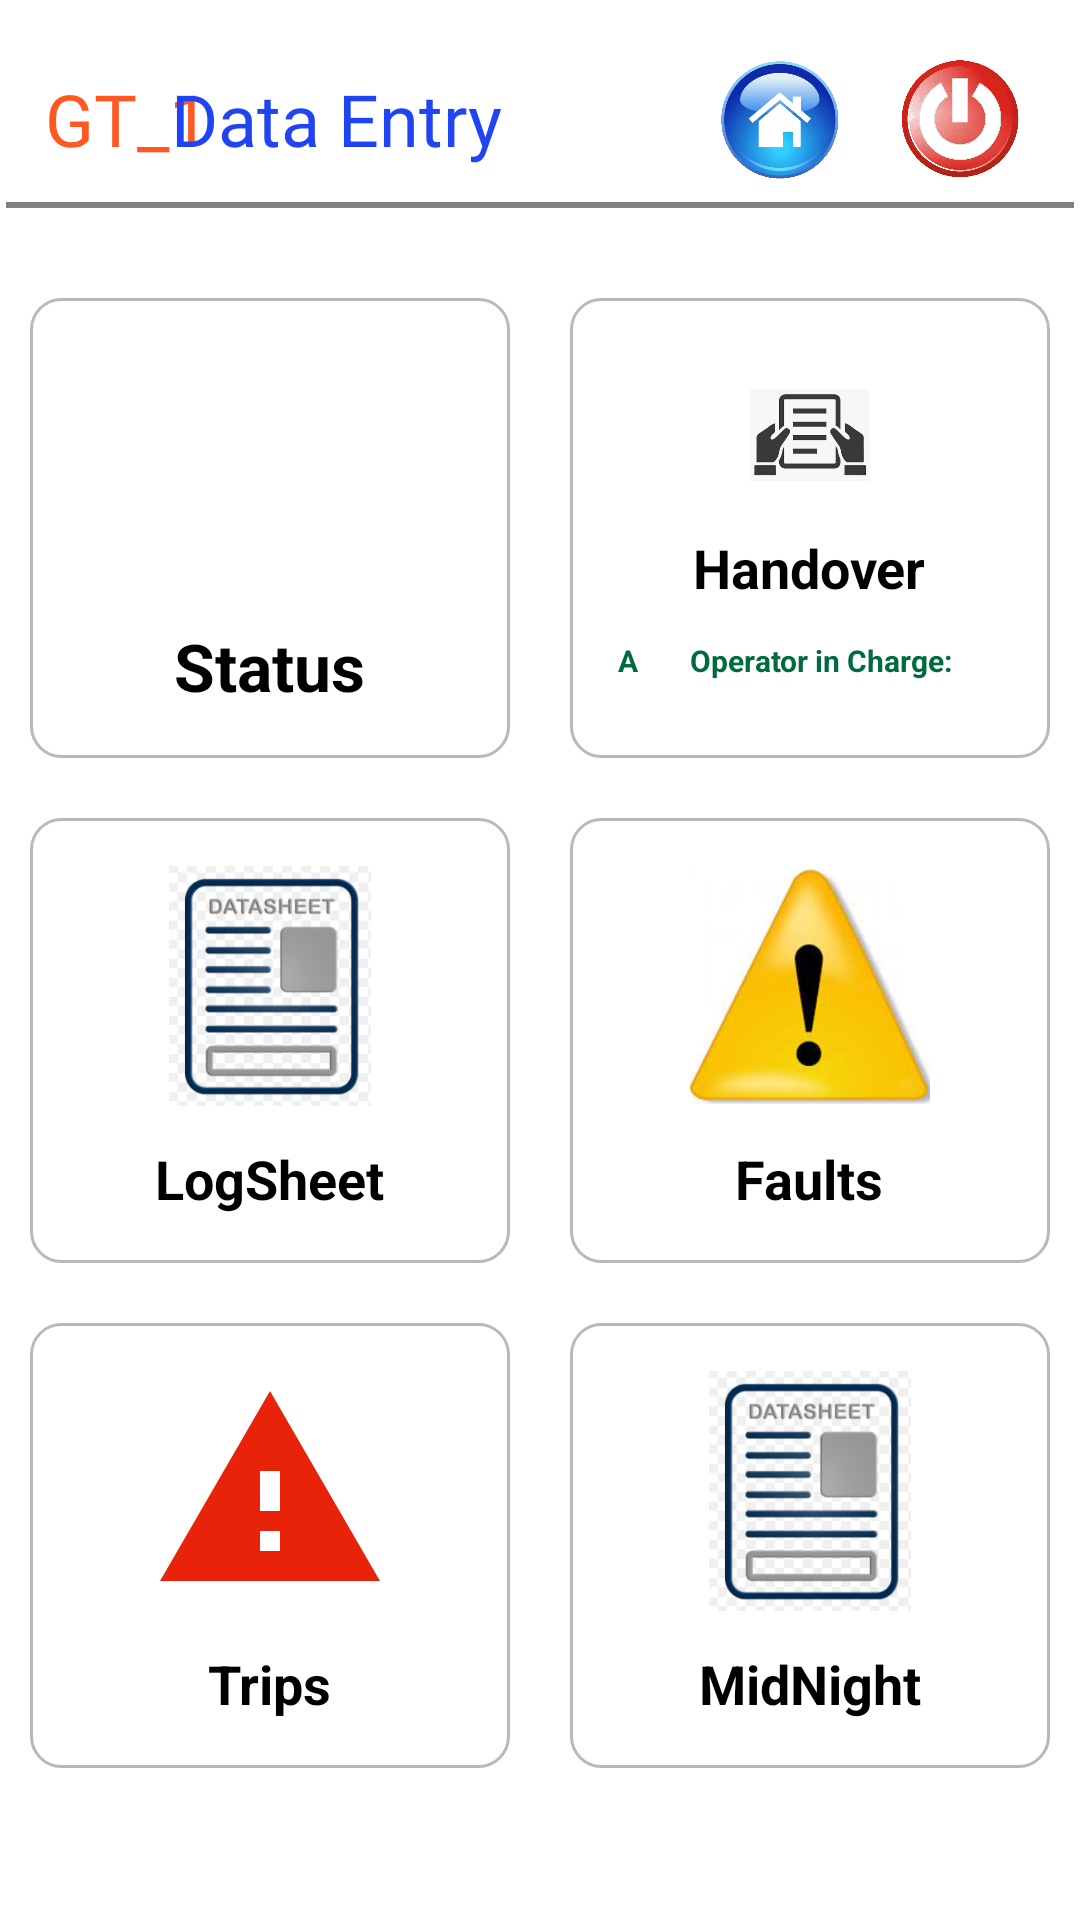

Icons on this 1080w x 1920h Android screen, each with the point to tap as point (x, y):
home: point (780, 120)
sign out: point (960, 118)
warning: point (270, 1486)
